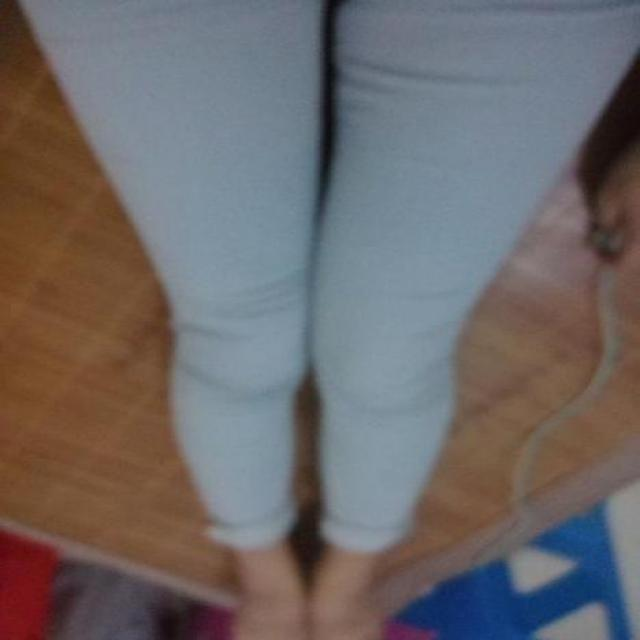trousers: (26, 2, 635, 538)
